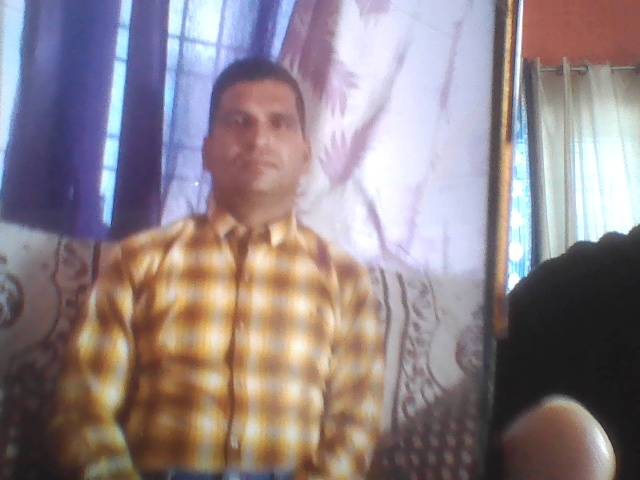fake: (209, 47, 317, 200)
